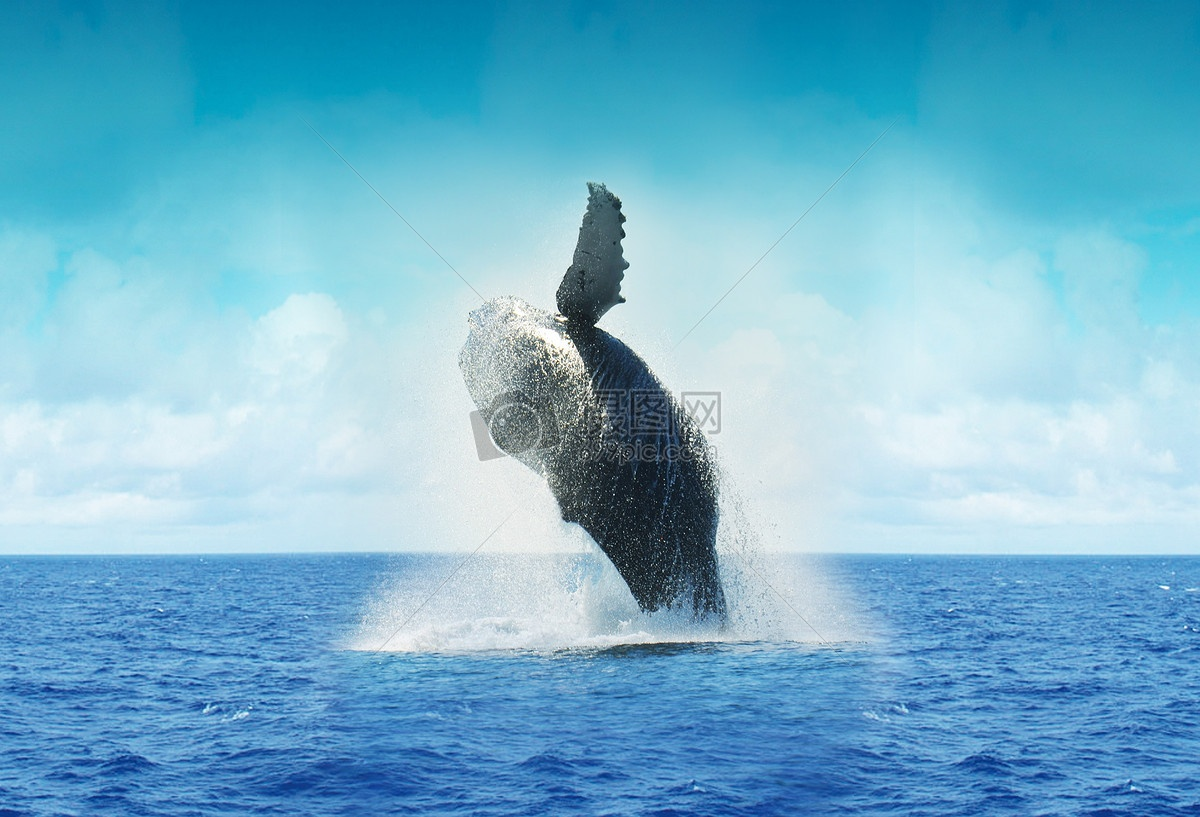fish: (448, 174, 754, 638)
